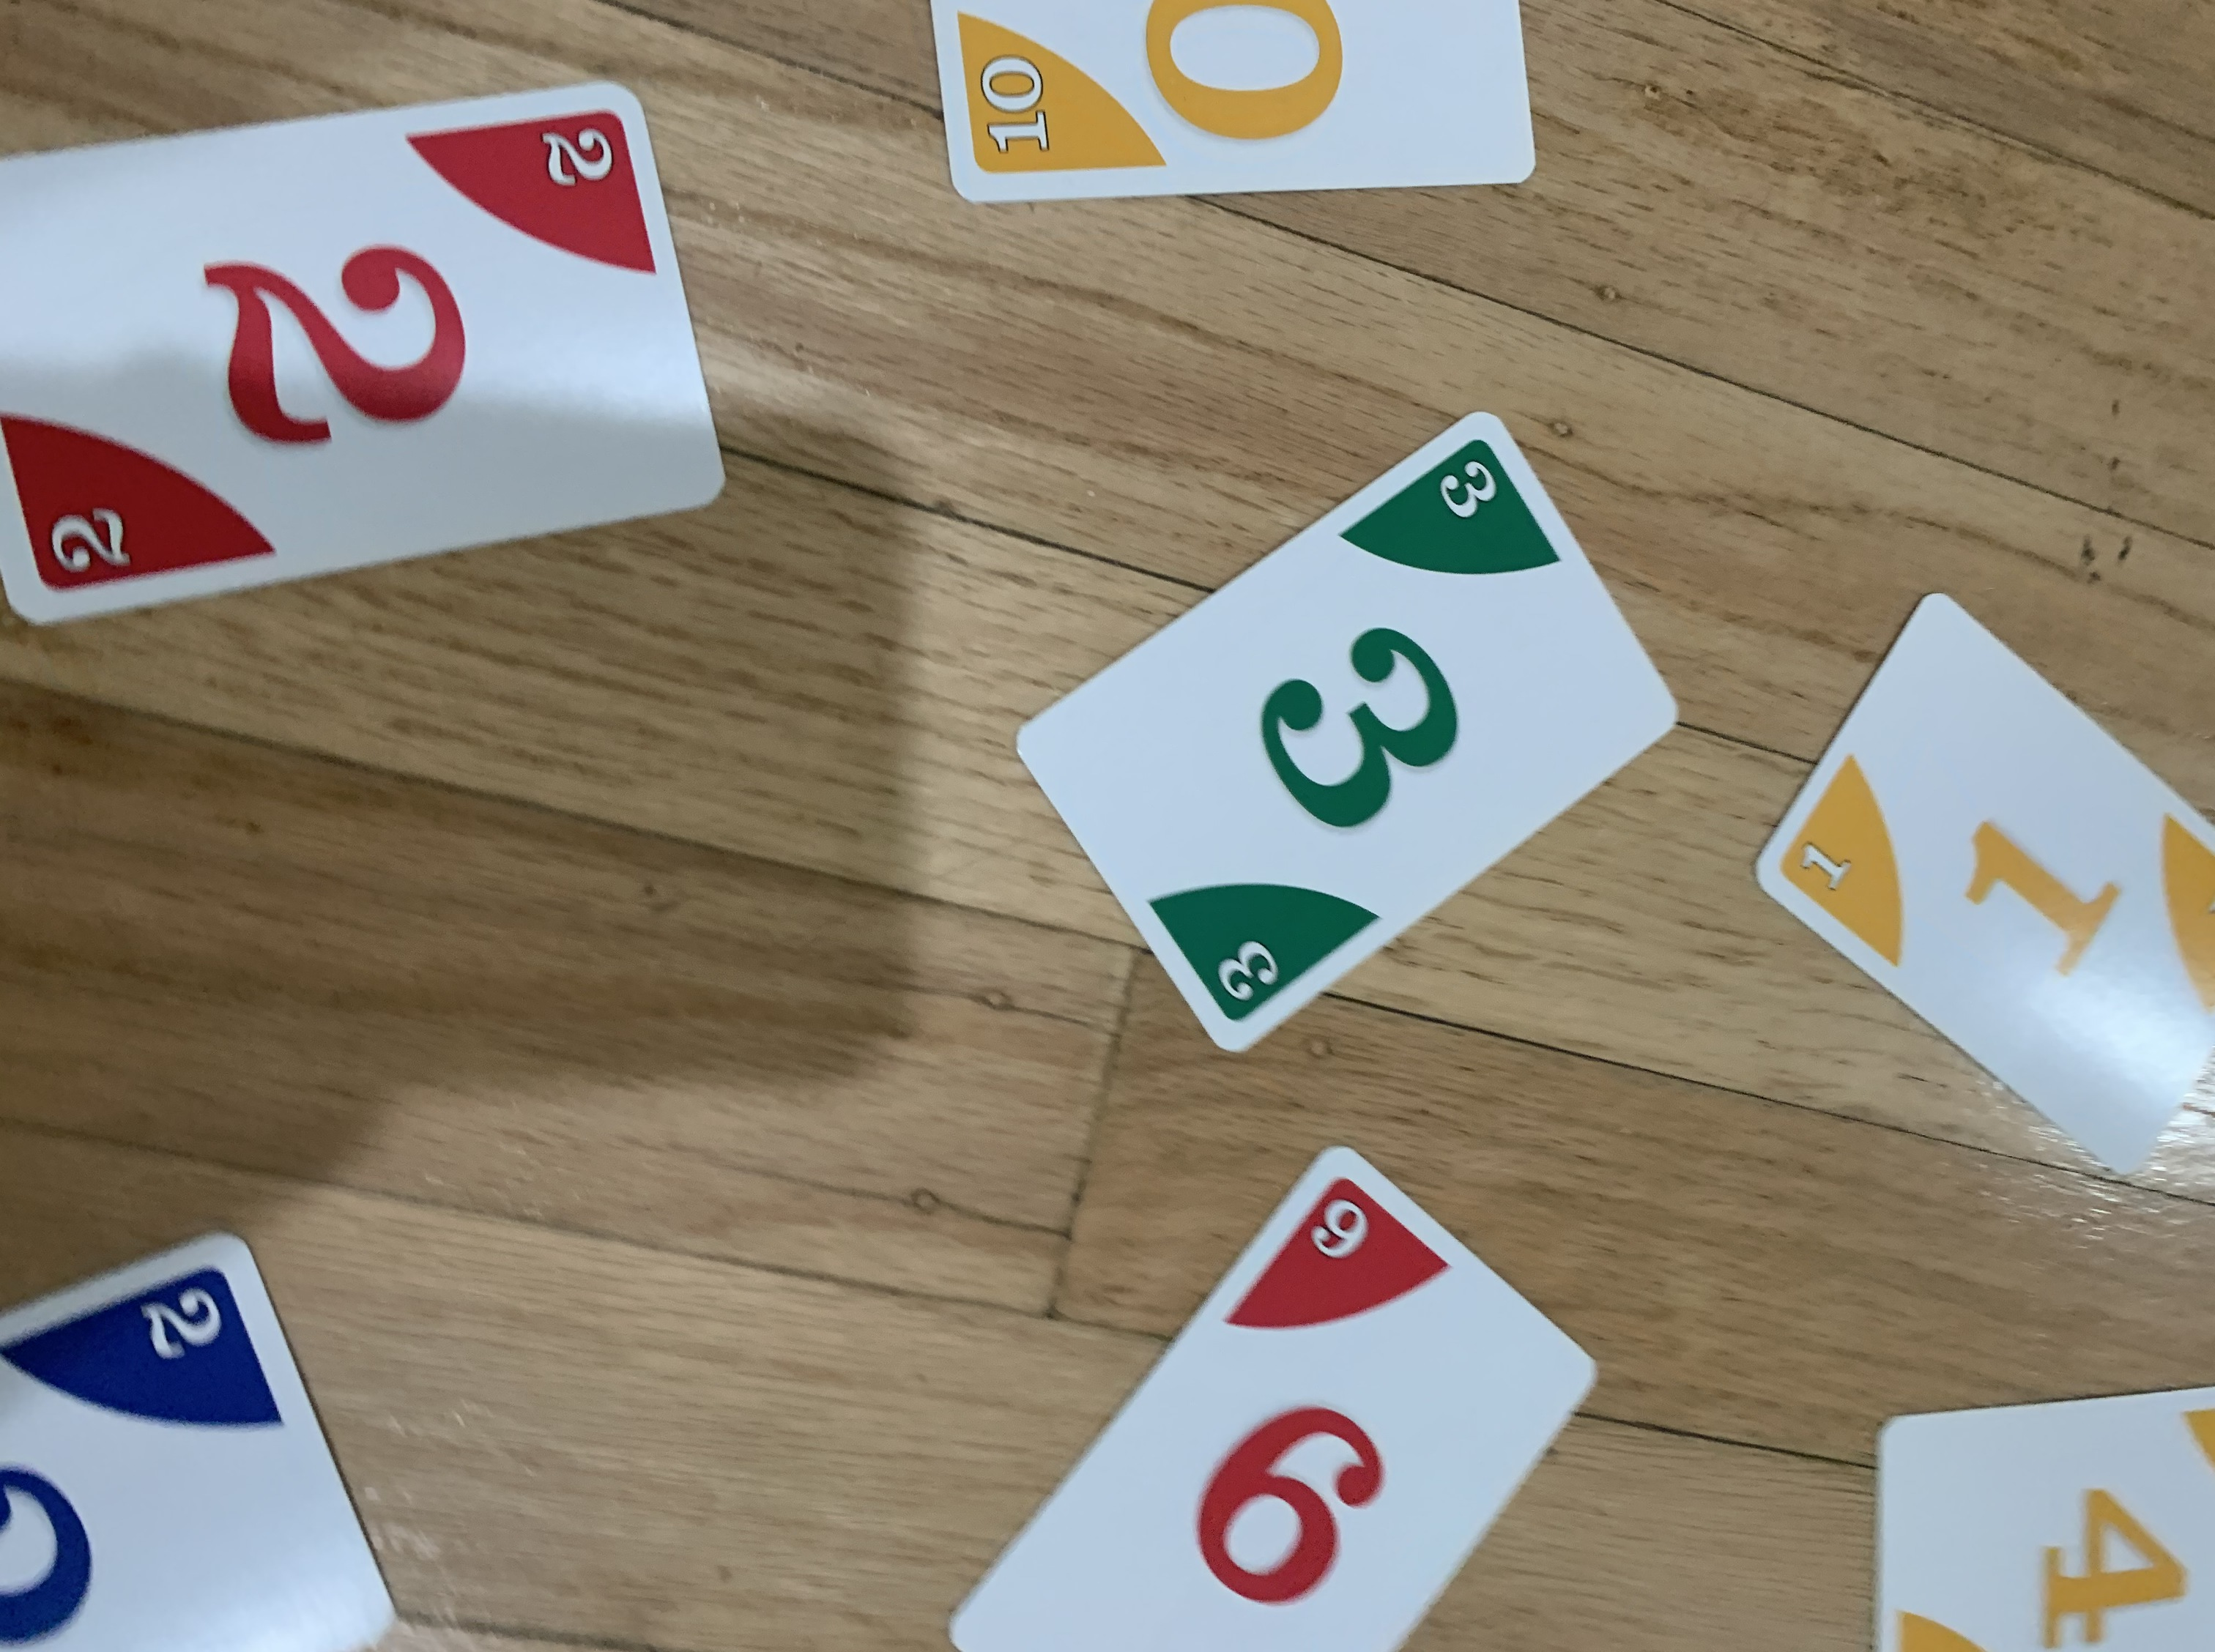one: (1743, 581, 2215, 1189)
six: (923, 1133, 1611, 1636)
three: (993, 394, 1687, 1065)
two: (0, 71, 734, 626)
